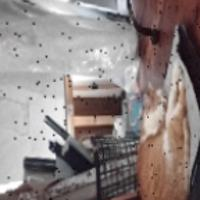asleep: (136, 58, 191, 200)
